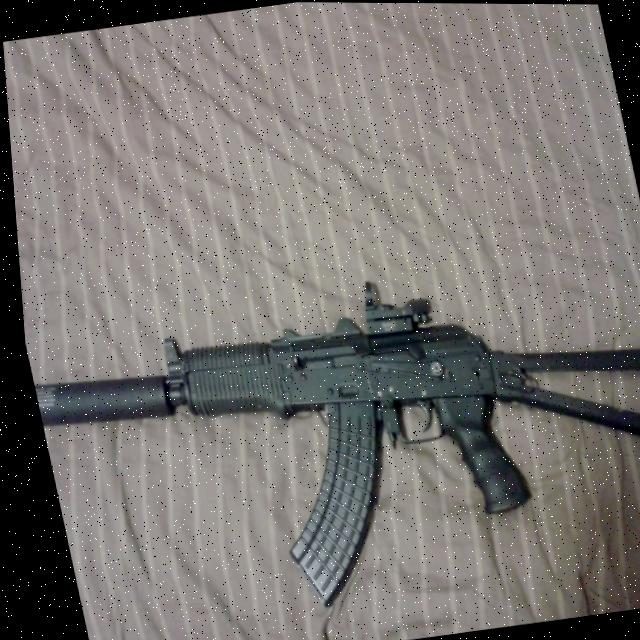firearm: (14, 235, 640, 640)
